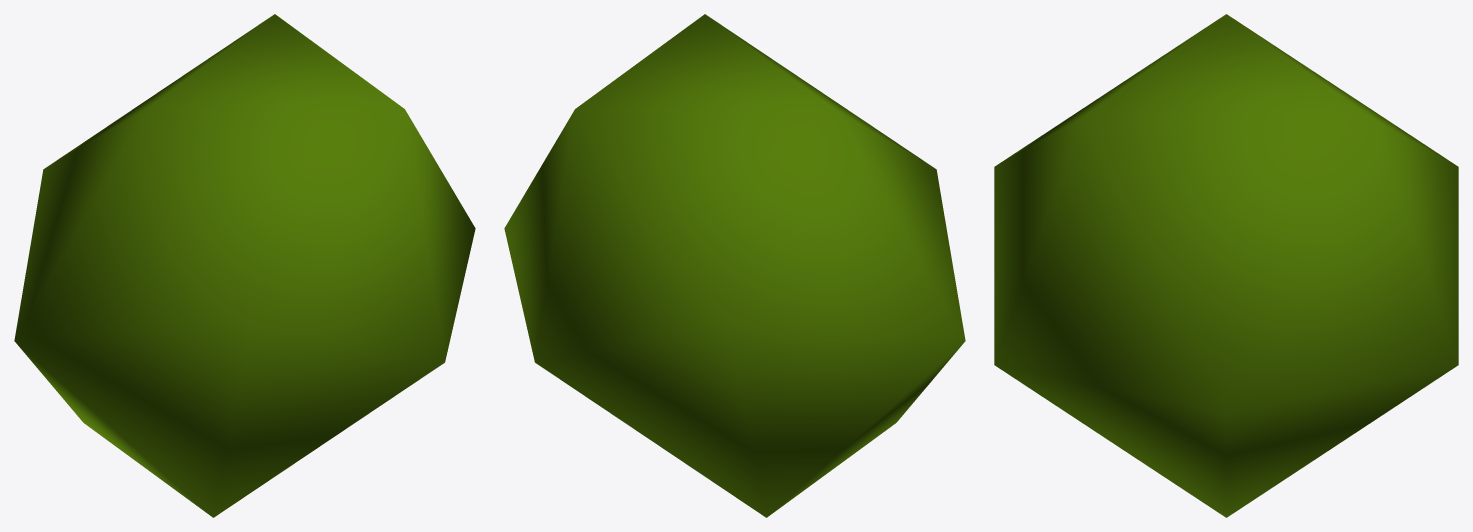
The model's file is lime.fbx.
3 views of the same model, side by side, from view 1: azimuth 30°, elevation 25°; view 2: azimuth 150°, elevation 25°; view 3: azimuth 270°, elevation 25° (orthographic). The views are drawn at different scales.
Parts seen in each view (by area): view 1: Icosphere; view 2: Icosphere; view 3: Icosphere.
Boxes of the visible parts, left/top/right/bottom form: Icosphere: left=14, top=14, right=475, bottom=517; Icosphere: left=504, top=14, right=965, bottom=517; Icosphere: left=994, top=14, right=1458, bottom=517.
Size of the model in its own units: 21.55 by 16.2 by 17.01.
